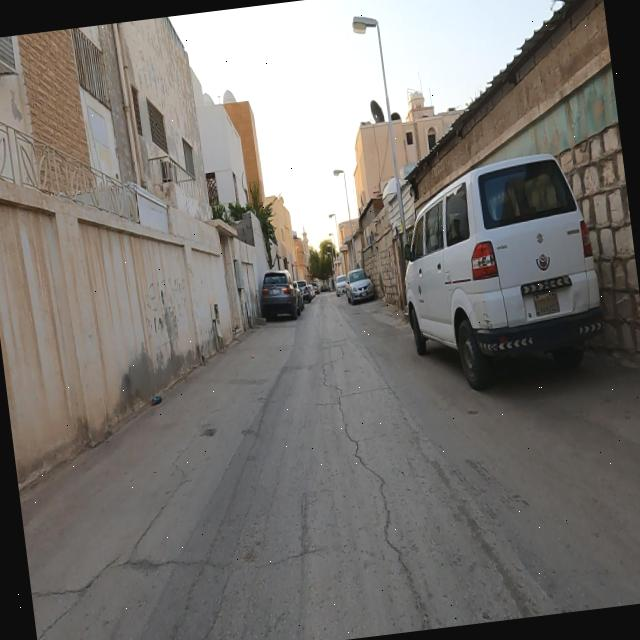Graffiti: (142, 275, 194, 357)
